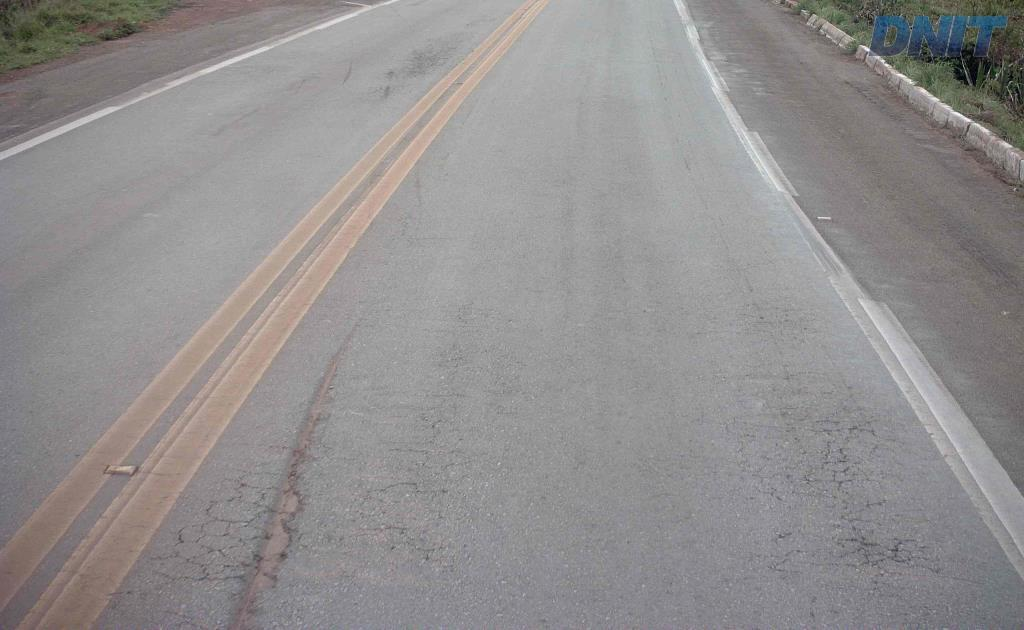crack: (837, 535, 885, 569), (874, 537, 918, 568)
pothole: (227, 340, 345, 620)
